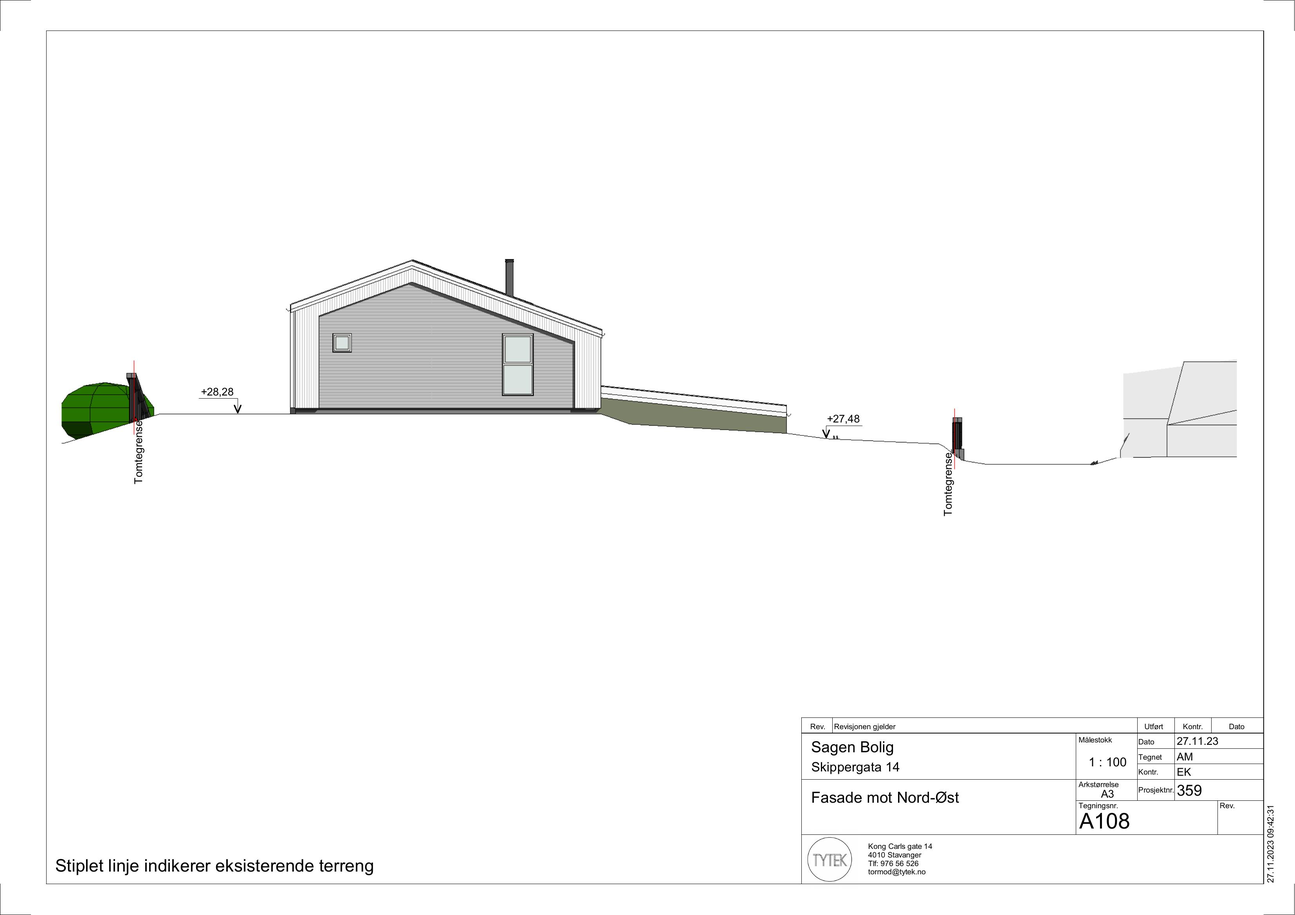fasade: (283, 257, 794, 439)
